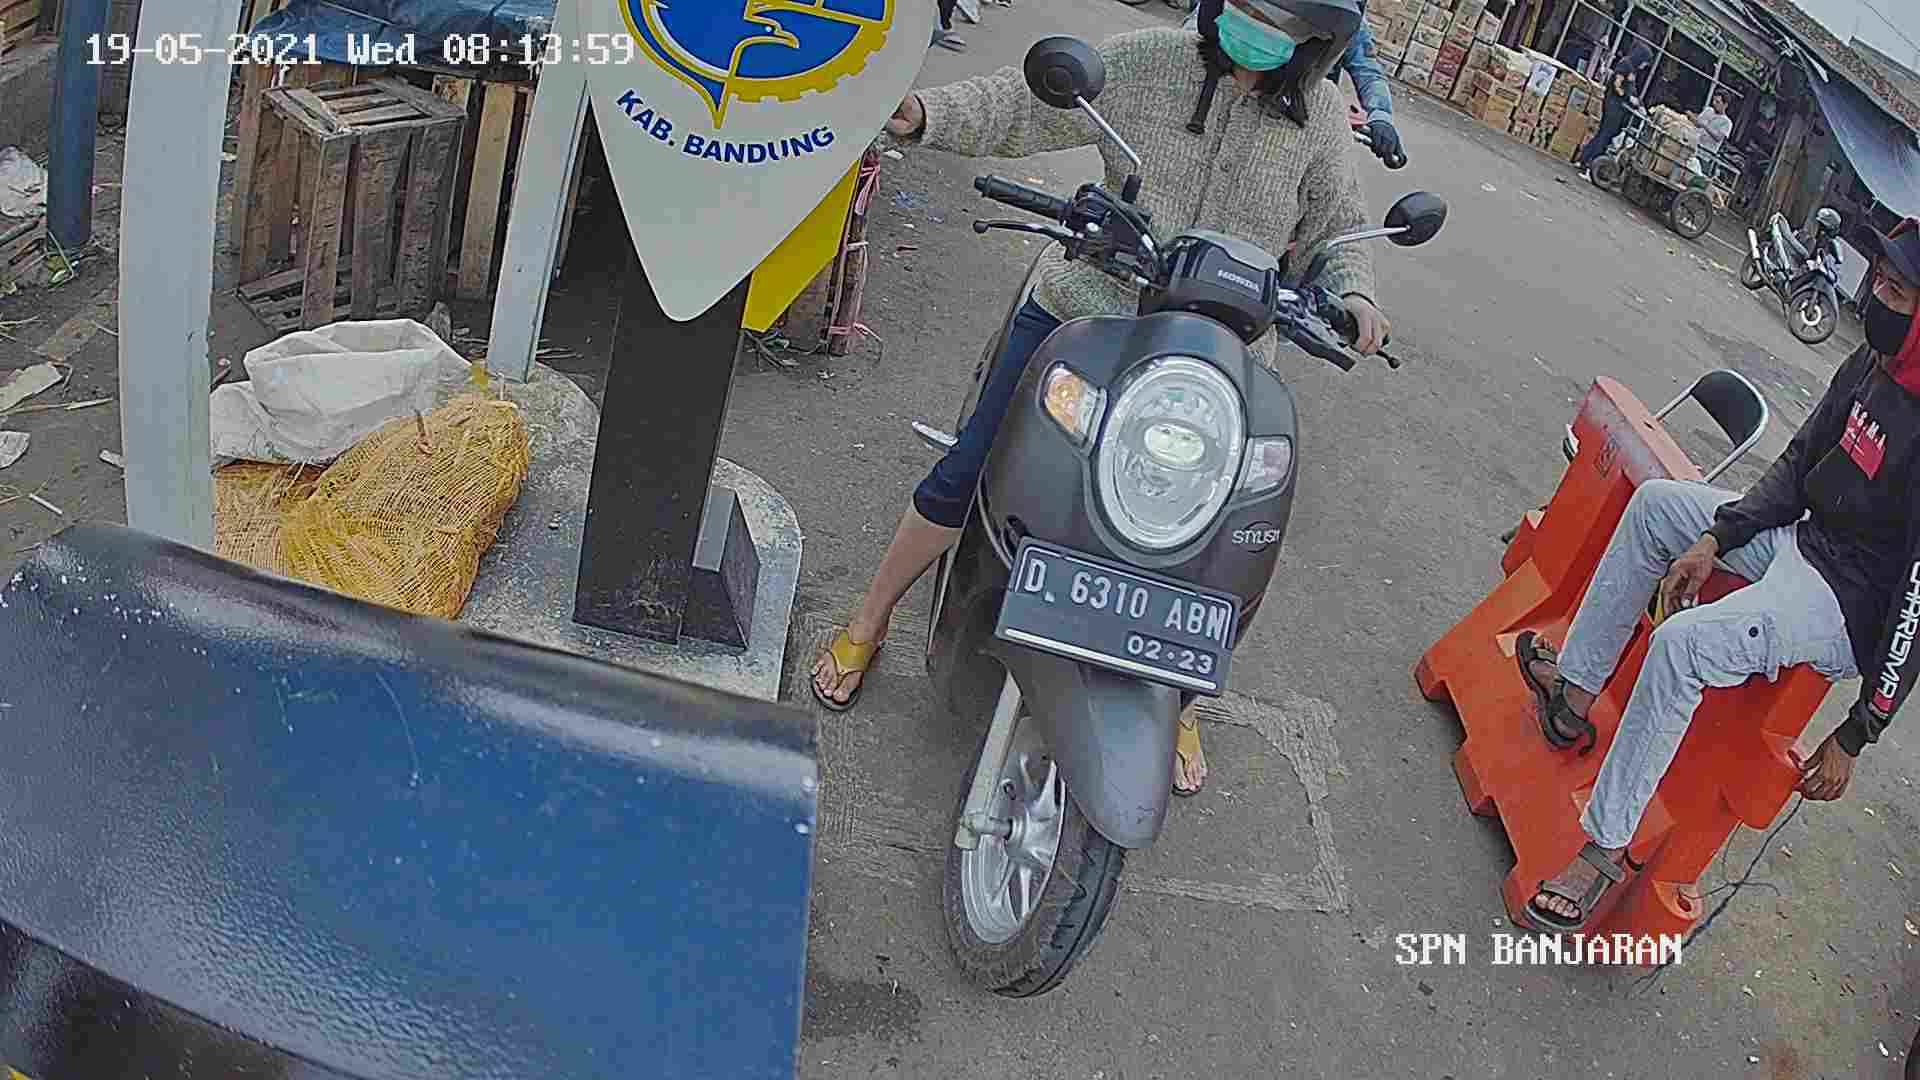motor: (920, 146, 1348, 1021)
